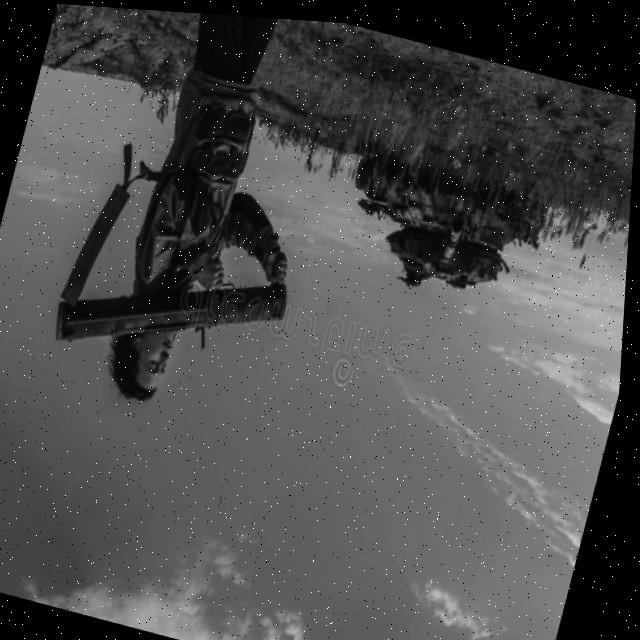rocket: (46, 226, 298, 400)
